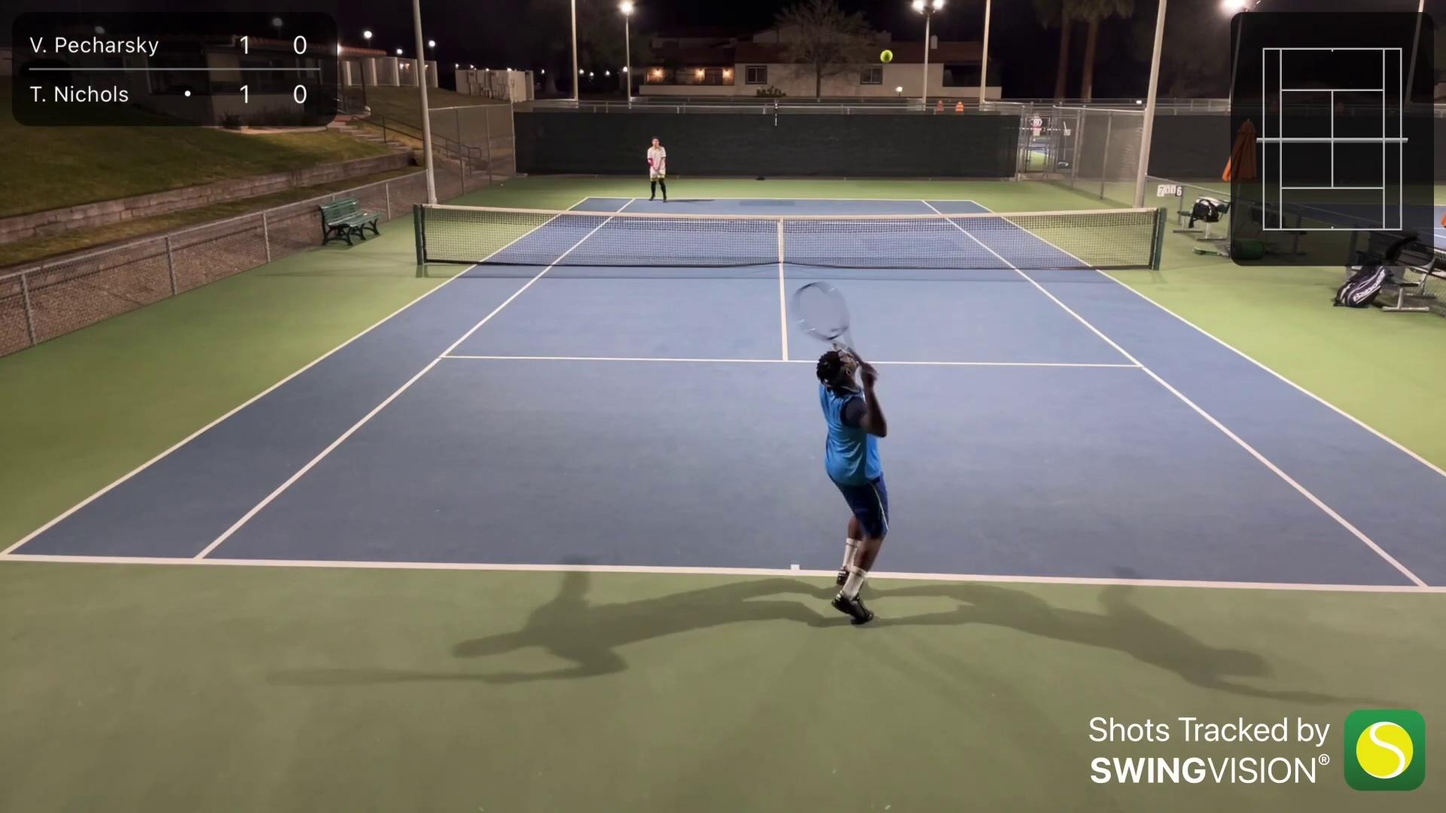ball: (878, 48, 898, 67)
